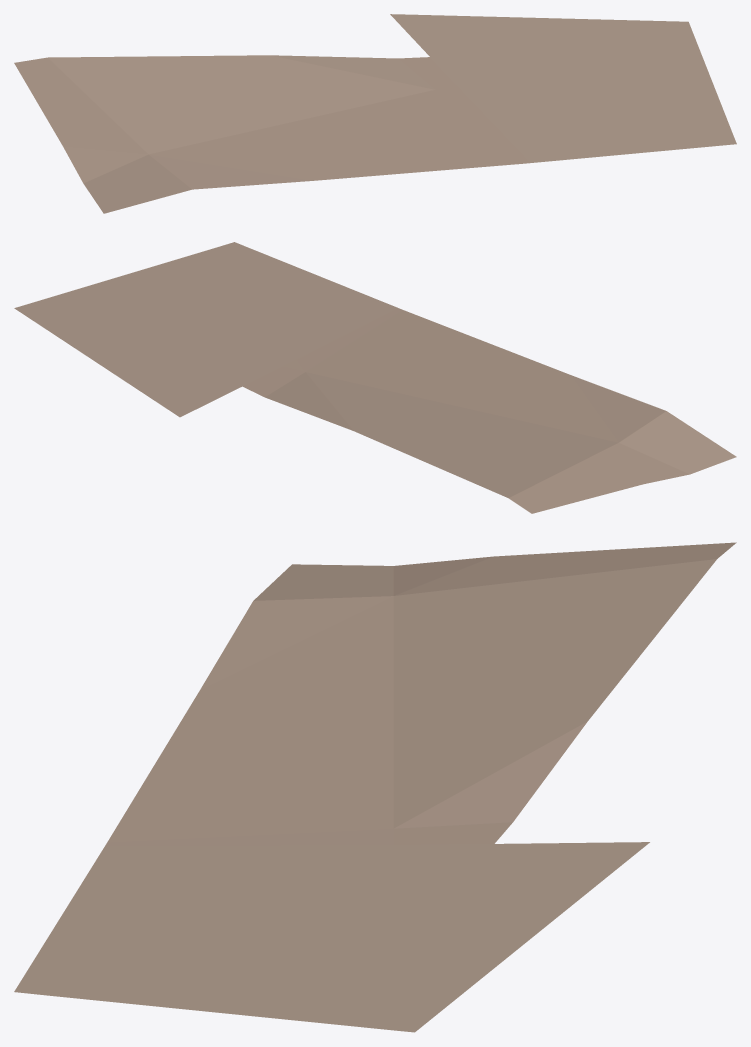
File: farm_-11_-2_soil.glb
3 views of the same model, one above another, from view 1: azimuth 30°, elevation 25°; view 2: azimuth 150°, elevation 25°; view 3: azimuth 270°, elevation 25° (orthographic). The views are drawn at different scales.
Parts seen in each view (by area): view 1: geometry_0; view 2: geometry_0; view 3: geometry_0.
Part boxes in pixels (left/top/right/bottom): geometry_0: left=14, top=14, right=736, bottom=213; geometry_0: left=14, top=242, right=736, bottom=513; geometry_0: left=14, top=542, right=736, bottom=1032.
Size of the model in its own units: 174 by 10.88 by 109.
